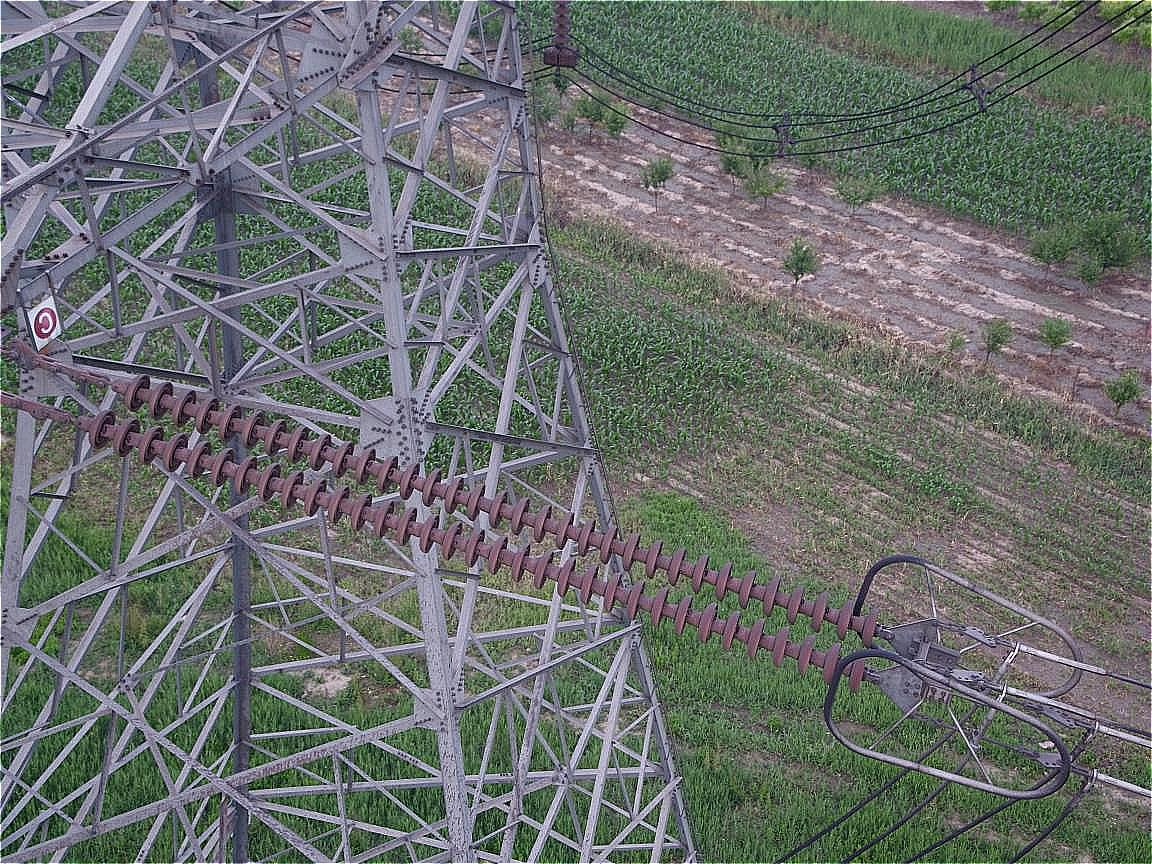insultor1: (51, 374, 897, 693)
